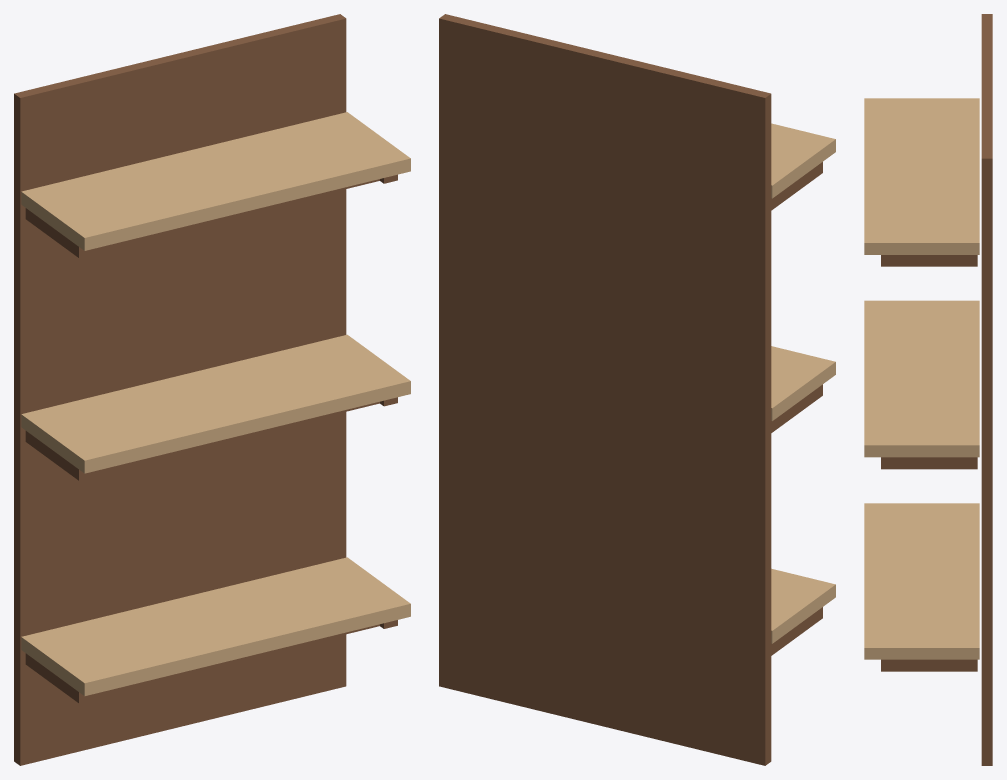
3 renders of one model, left to right at view 1: azimuth 30°, elevation 25°; view 2: azimuth 150°, elevation 25°; view 3: azimuth 270°, elevation 25°, orthographic. The views are drawn at different scales.
Visible parts, largest first — view 1: back-panel-wall-sheet, wall-shelf-board-lower, wall-shelf-board-middle, wall-shelf-board-top, back-panel-edge-lower-left, back-panel-edge-top-left, back-panel-edge-middle-left, back-panel-ledge-lower, back-panel-ledge-middle, back-panel-ledge-top; view 2: back-panel-wall-sheet, wall-shelf-board-middle, wall-shelf-board-top, wall-shelf-board-lower; view 3: wall-shelf-board-middle, wall-shelf-board-lower, wall-shelf-board-top, back-panel-wall-sheet, back-panel-edge-lower-right, back-panel-edge-middle-right, back-panel-edge-top-right.
Boxes of the visible parts, bbox=[...] form: back-panel-wall-sheet: bbox=[14, 14, 346, 765]; wall-shelf-board-lower: bbox=[21, 557, 410, 695]; wall-shelf-board-middle: bbox=[21, 334, 410, 473]; wall-shelf-board-top: bbox=[21, 112, 410, 250]; back-panel-edge-lower-left: bbox=[25, 653, 93, 703]; back-panel-edge-top-left: bbox=[25, 208, 93, 257]; back-panel-edge-middle-left: bbox=[25, 431, 93, 480]; back-panel-ledge-lower: bbox=[93, 624, 379, 695]; back-panel-ledge-middle: bbox=[93, 401, 379, 473]; back-panel-ledge-top: bbox=[93, 179, 379, 250]; back-panel-wall-sheet: bbox=[439, 14, 771, 765]; wall-shelf-board-middle: bbox=[771, 346, 835, 420]; wall-shelf-board-top: bbox=[771, 123, 835, 198]; wall-shelf-board-lower: bbox=[771, 568, 835, 643]; wall-shelf-board-middle: bbox=[864, 300, 979, 457]; wall-shelf-board-lower: bbox=[864, 503, 979, 659]; wall-shelf-board-top: bbox=[864, 98, 979, 254]; back-panel-wall-sheet: bbox=[981, 14, 992, 765]; back-panel-edge-lower-right: bbox=[881, 659, 977, 671]; back-panel-edge-middle-right: bbox=[881, 457, 977, 469]; back-panel-edge-top-right: bbox=[881, 255, 977, 266].
Size of the model in its own units: 0.92 by 1.8 by 0.345.
